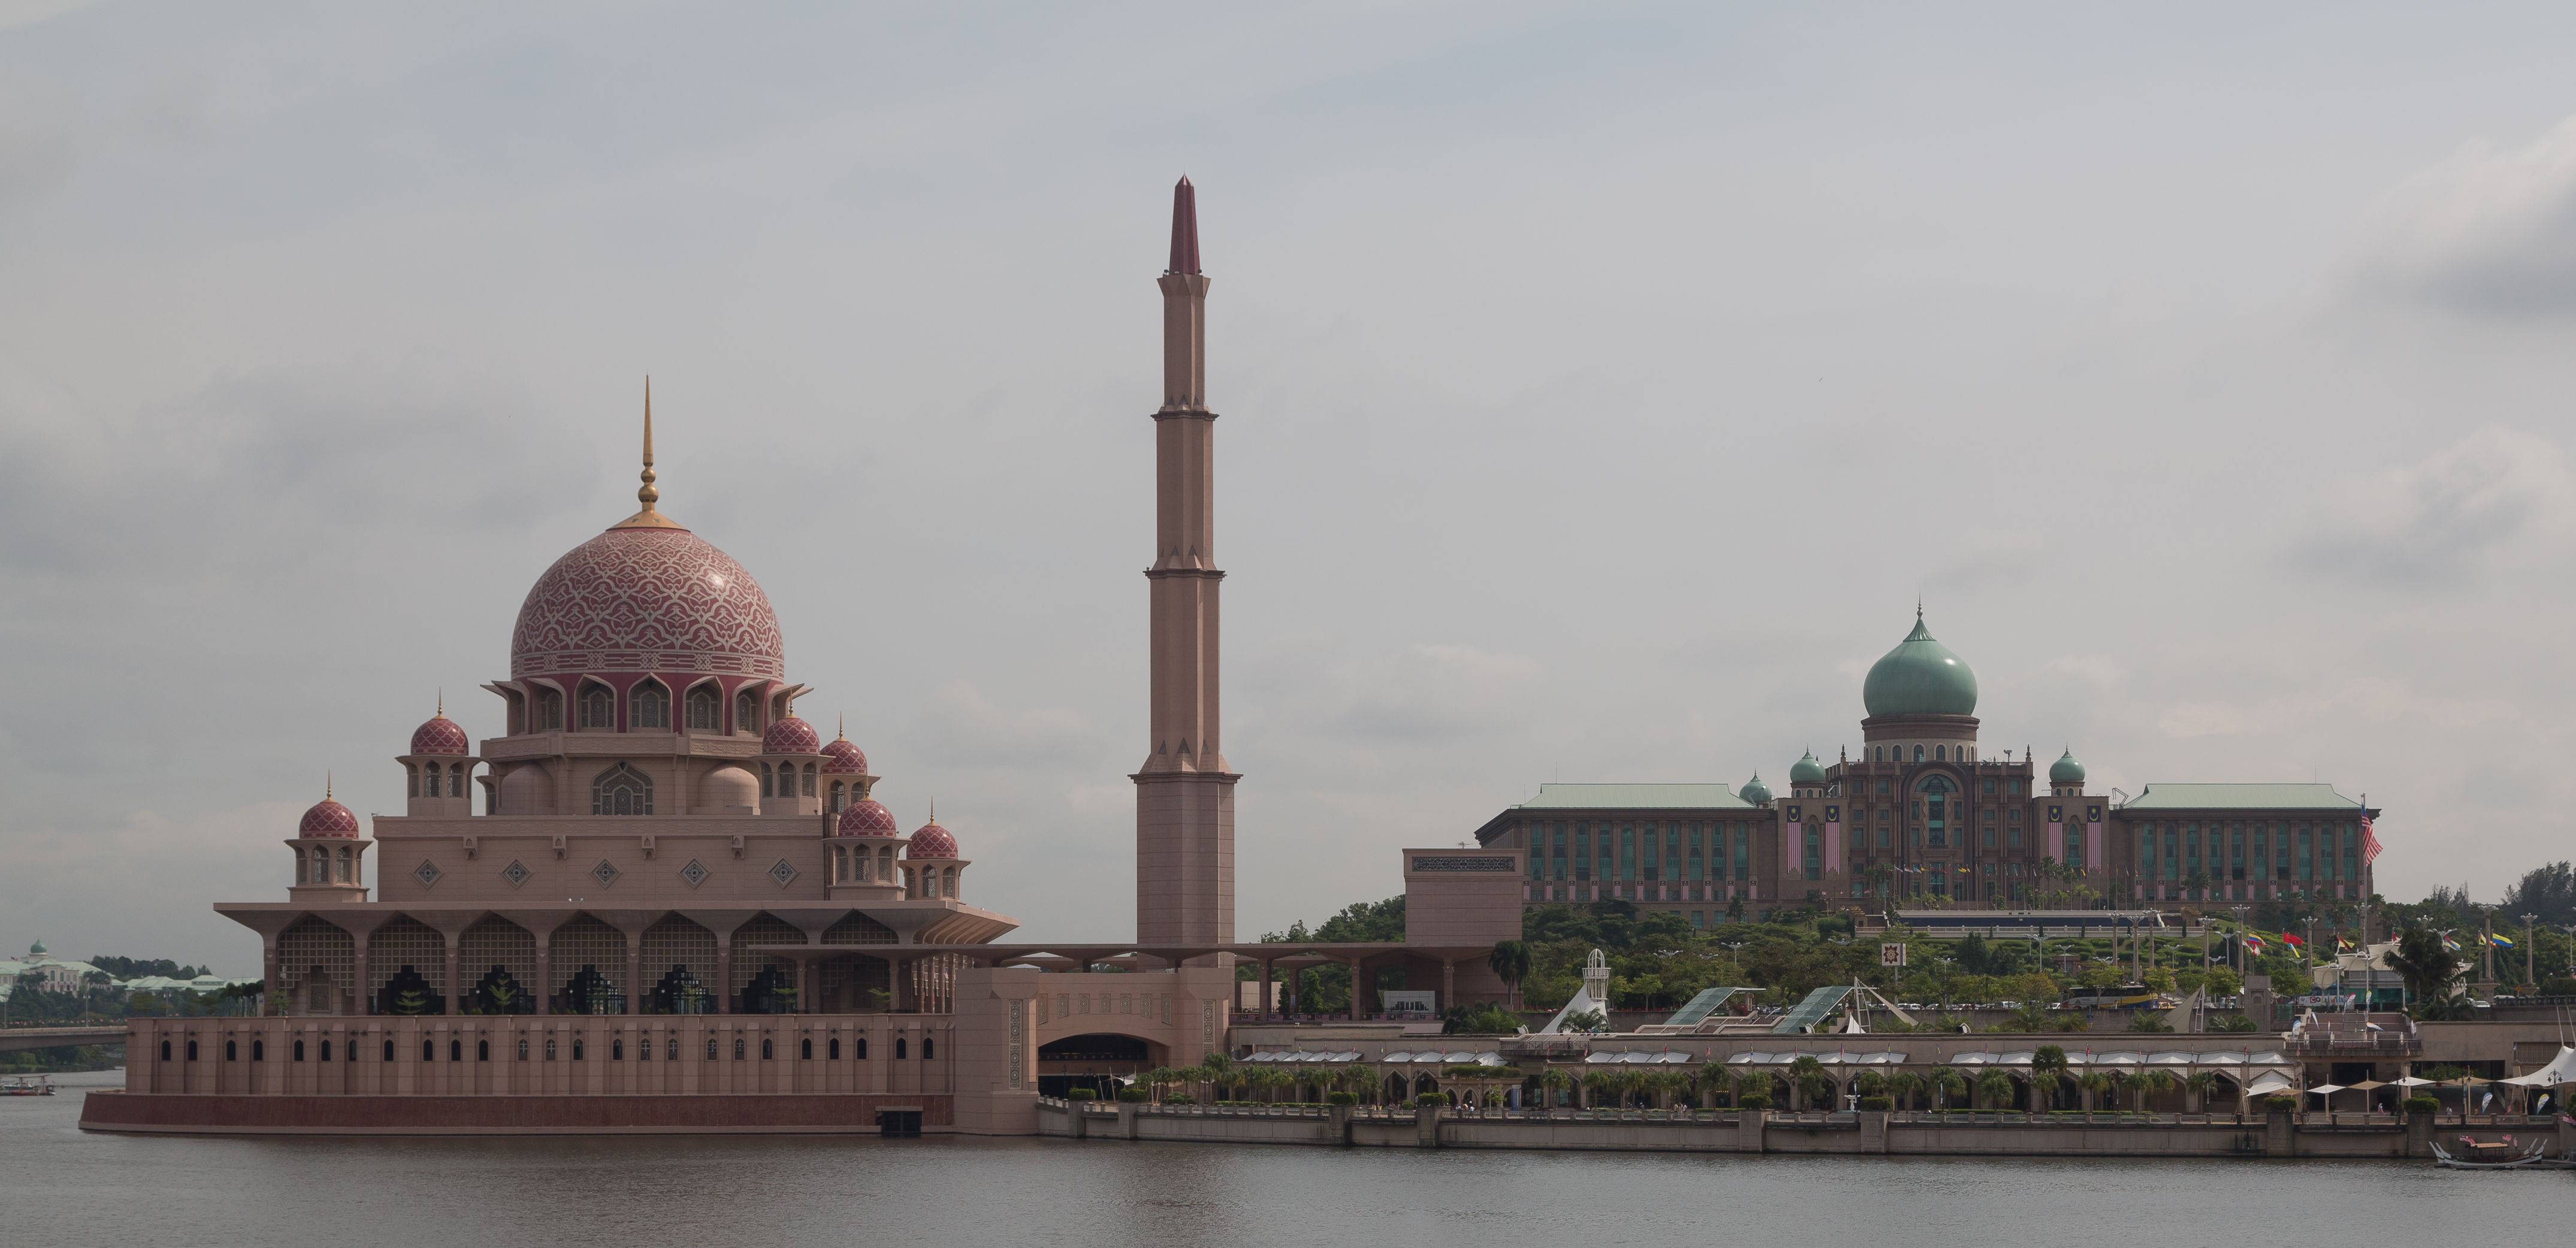Mosque: (192, 163, 1252, 1085)
